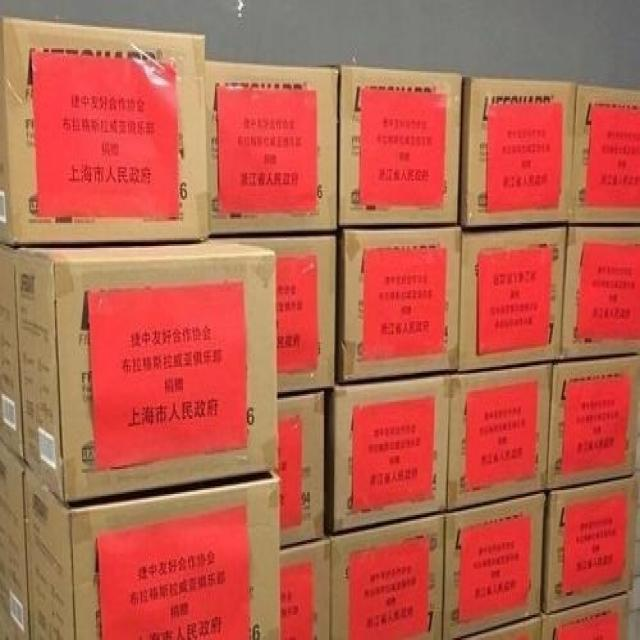Carton: (329, 227, 639, 638), (14, 248, 271, 500), (1, 19, 206, 242), (22, 465, 279, 638), (207, 60, 333, 233), (340, 67, 458, 217), (462, 75, 577, 219), (570, 85, 637, 219)
